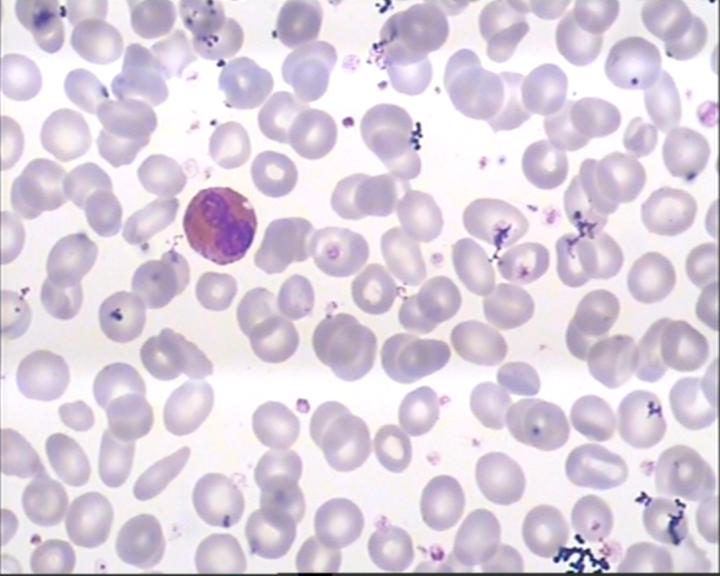eosi: (179, 184, 264, 267)
